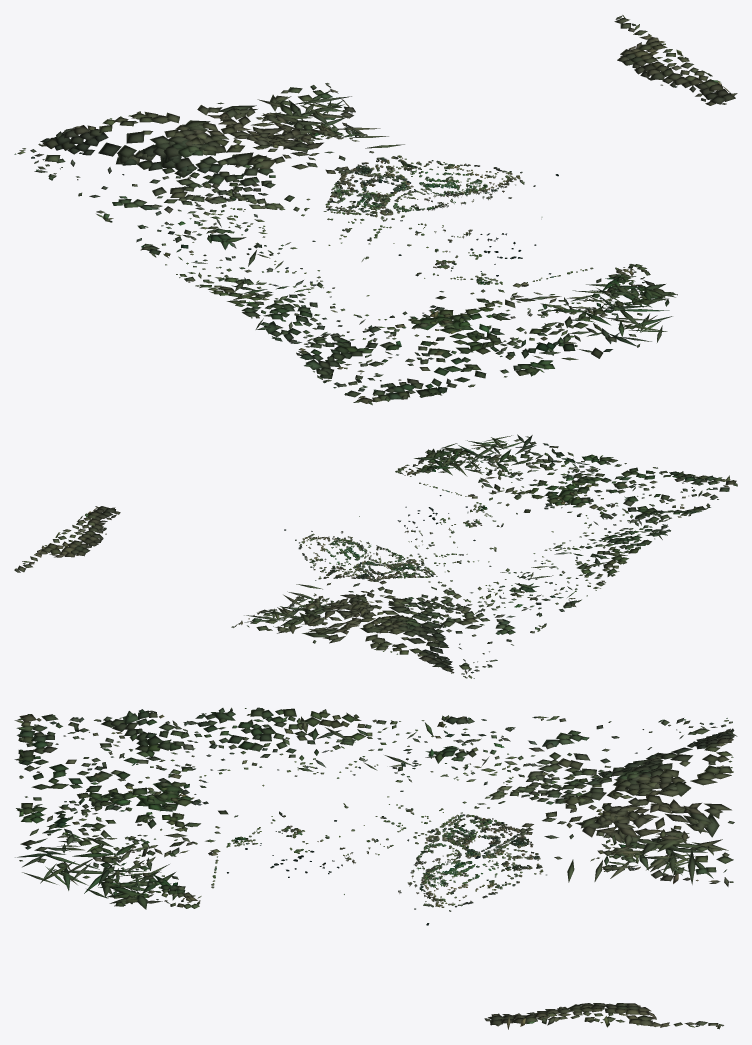
File: macpoint_backdrop_part2.glb
The picture shows the model from 3 angles, top to bottom: view 1: azimuth 30°, elevation 25°; view 2: azimuth 150°, elevation 25°; view 3: azimuth 270°, elevation 25°; orthographic projection. The views are drawn at different scales.
Visible parts, largest first — view 1: bg_trees_joined; view 2: bg_trees_joined; view 3: bg_trees_joined.
Boxes of the visible parts, x1,y1,x2,y2 form: bg_trees_joined: [14, 15, 737, 405]; bg_trees_joined: [14, 434, 737, 678]; bg_trees_joined: [14, 707, 737, 1029].
Bounding box in the file's own units: 3047 × 121 × 3044.
1 material, 1 textured.
